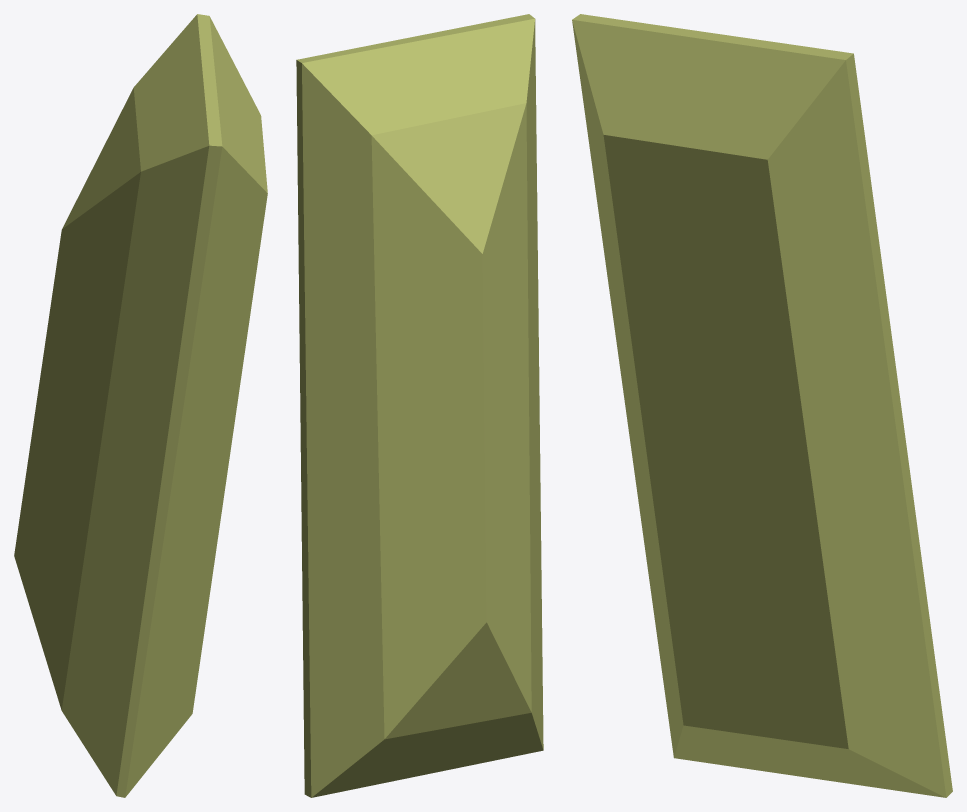
File: TR4_Spacers_BaguetteStone.001 2.glb
3 views of the same model, side by side, from view 1: azimuth 30°, elevation 25°; view 2: azimuth 150°, elevation 25°; view 3: azimuth 270°, elevation 25° (orthographic). The views are drawn at different scales.
Parts seen in each view (by area): view 1: TR4_Spacers_BaguetteStone.001; view 2: TR4_Spacers_BaguetteStone.001; view 3: TR4_Spacers_BaguetteStone.001.
Boxes of the visible parts, bbox=[...] form: TR4_Spacers_BaguetteStone.001: bbox=[14, 14, 267, 797]; TR4_Spacers_BaguetteStone.001: bbox=[296, 14, 543, 797]; TR4_Spacers_BaguetteStone.001: bbox=[572, 14, 952, 797].
Size of the model in its own units: 0.1454 by 0.4615 by 0.202.
